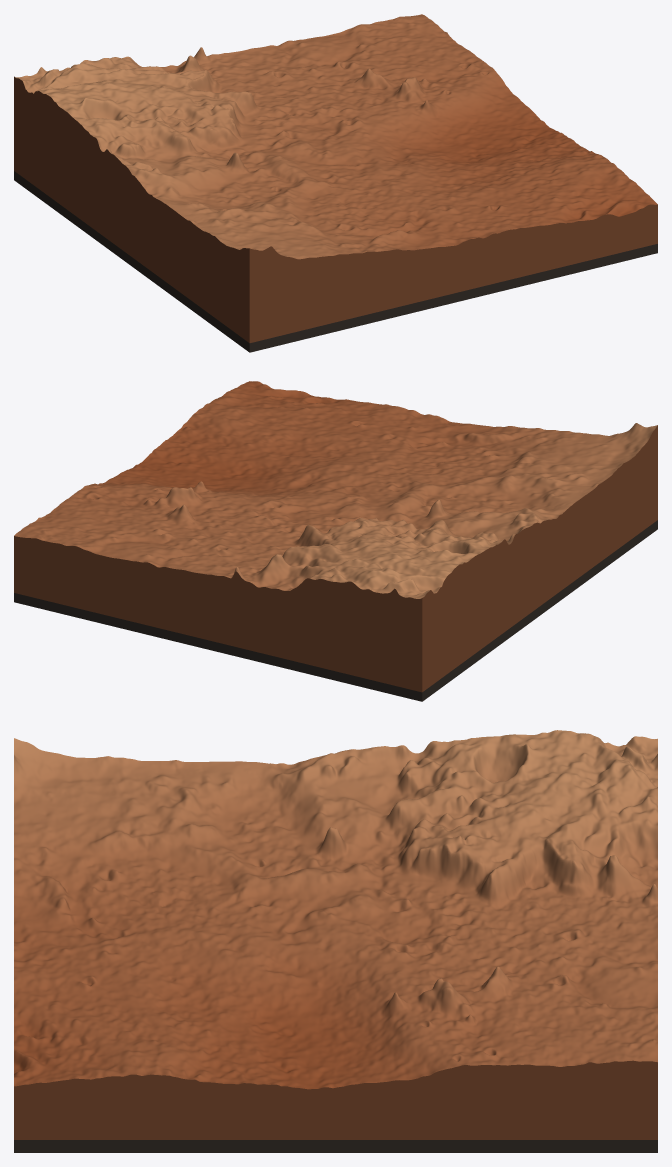
Rendered from jezero.glb.
The picture shows the model from 3 angles, top to bottom: view 1: azimuth 30°, elevation 25°; view 2: azimuth 150°, elevation 25°; view 3: azimuth 270°, elevation 25°; orthographic projection. The views are drawn at different scales.
Visible parts, largest first — view 1: Jezero_USGS_surface, Square geological cut - presentation base, Square dark plinth; view 2: Jezero_USGS_surface, Square geological cut - presentation base, Square dark plinth; view 3: Jezero_USGS_surface, Square geological cut - presentation base, Square dark plinth.
Boxes of the visible parts, <box> form: Jezero_USGS_surface: <box>15,14,657,259</box>; Square geological cut - presentation base: <box>14,76,657,343</box>; Square dark plinth: <box>14,171,657,352</box>; Jezero_USGS_surface: <box>14,381,657,598</box>; Square geological cut - presentation base: <box>14,425,657,692</box>; Square dark plinth: <box>14,520,657,701</box>; Jezero_USGS_surface: <box>14,730,657,1089</box>; Square geological cut - presentation base: <box>14,1060,657,1139</box>; Square dark plinth: <box>14,1140,657,1152</box>.
Bounding box in the file's own units: 9980 × 2599 × 9980.
